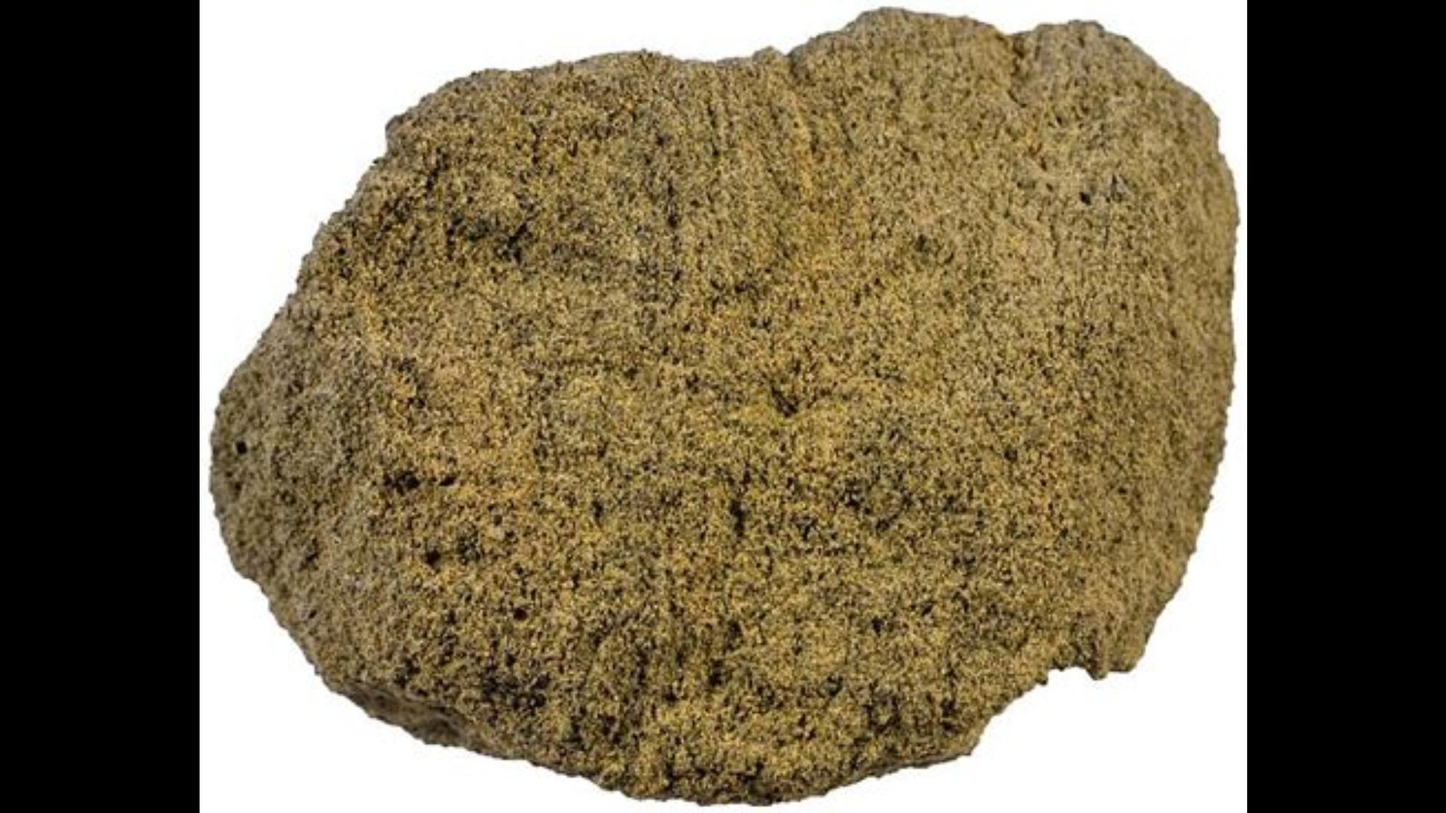rock: (210, 9, 1233, 798)
